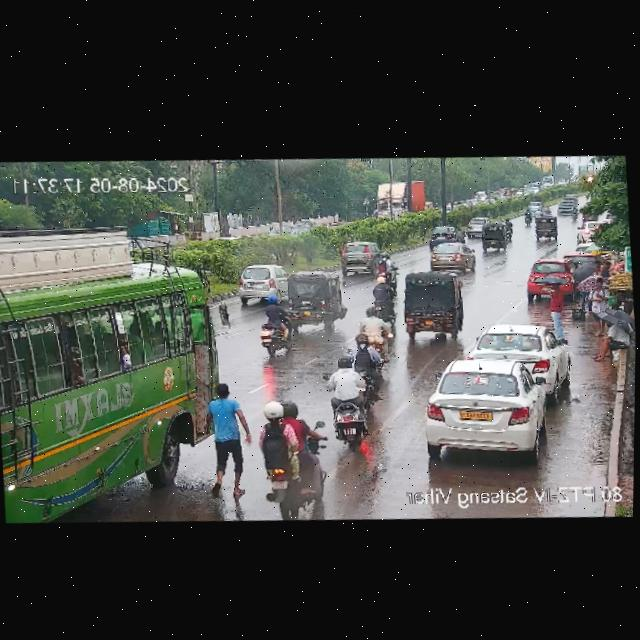bus: (0, 291, 301, 540)
car: (416, 350, 564, 465), (467, 318, 568, 388), (391, 267, 465, 342), (276, 271, 348, 331), (234, 261, 288, 303), (525, 256, 575, 298), (334, 240, 385, 275), (421, 239, 474, 271), (564, 246, 602, 270), (477, 222, 508, 251), (426, 222, 465, 243), (531, 215, 561, 241), (460, 215, 488, 237), (575, 218, 595, 243), (557, 198, 571, 216), (524, 200, 540, 210)
motorcycle: (319, 356, 375, 448), (346, 331, 386, 398), (254, 296, 298, 356), (358, 303, 392, 358), (369, 267, 396, 317), (377, 249, 398, 285), (504, 217, 514, 239), (520, 209, 533, 225), (534, 206, 554, 216), (571, 206, 579, 220)
person: (259, 392, 333, 523), (200, 381, 248, 470), (588, 316, 634, 362), (542, 283, 565, 338), (581, 268, 608, 314)
truck: (372, 178, 435, 221)
